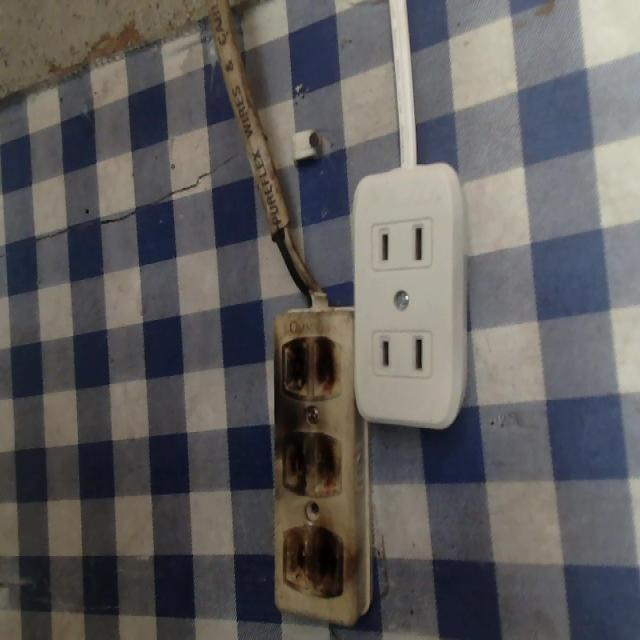-: (273, 326, 347, 410), (281, 516, 352, 600), (278, 428, 347, 500)
